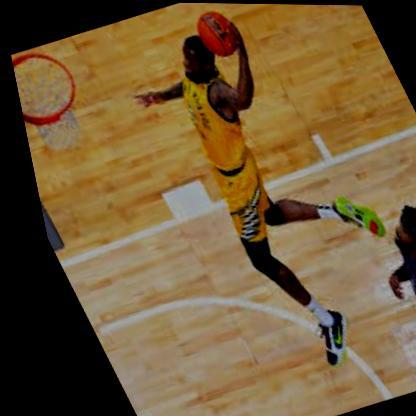basketball: (188, 6, 245, 61)
rim: (6, 38, 93, 135)
